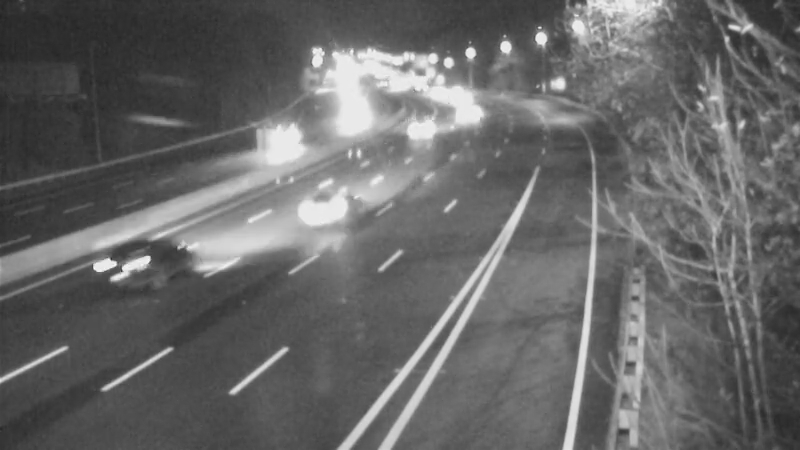vehicle: (288, 165, 368, 245), (84, 227, 164, 307), (430, 80, 480, 130), (444, 89, 494, 139), (396, 104, 446, 154), (260, 113, 310, 163), (323, 95, 373, 145)
